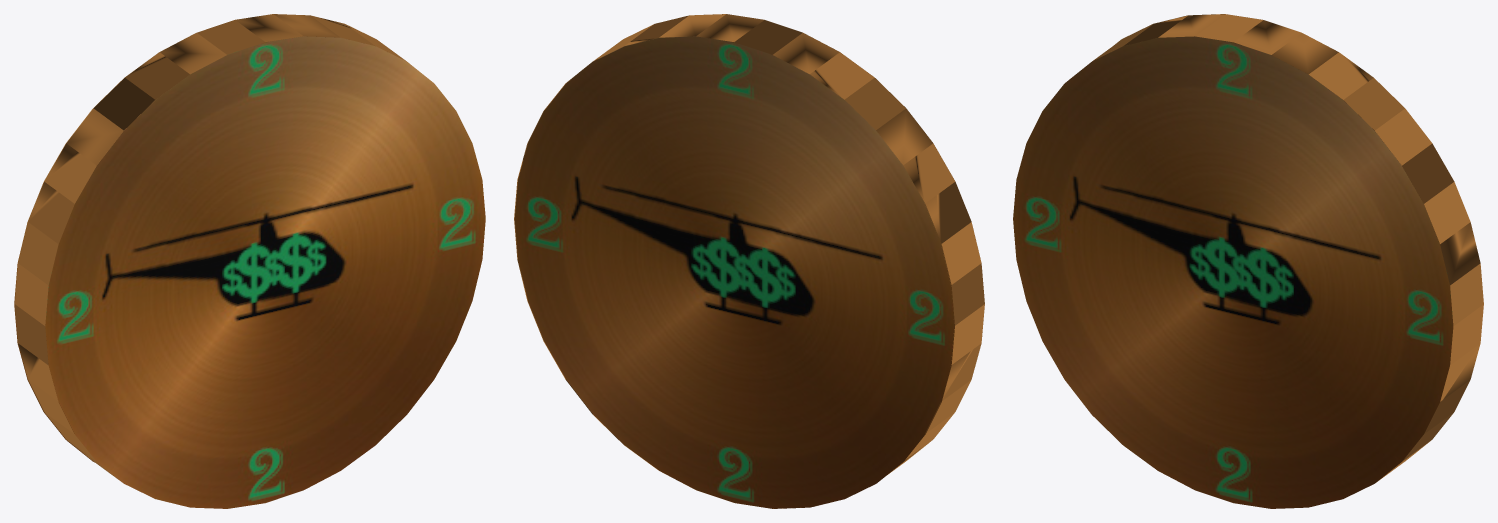
Rendered from gold-2money.fbx.
3 renders of one model, left to right at view 1: azimuth 30°, elevation 25°; view 2: azimuth 150°, elevation 25°; view 3: azimuth 330°, elevation 25°, orthographic.
Parts seen in each view (by area): view 1: Oil_Tank_3, Oil_Tank, Oil_Tank_2; view 2: Oil_Tank_2, Oil_Tank; view 3: Oil_Tank_3, Oil_Tank.
Boxes of the visible parts, x1,y1,x2,y2 form: Oil_Tank_3: (45, 36, 485, 508); Oil_Tank: (15, 14, 405, 480); Oil_Tank_2: (14, 33, 334, 462); Oil_Tank_2: (514, 36, 954, 508); Oil_Tank: (514, 14, 984, 508); Oil_Tank_3: (1013, 36, 1453, 508); Oil_Tank: (1093, 14, 1483, 482).
Size of the model in its own units: 200 by 200 by 24.06.
2 materials, 1 textured.
